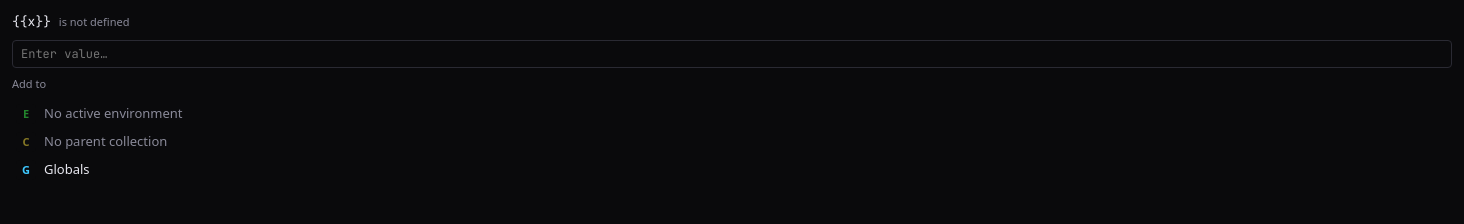
it: VariableCard › keeps the card open with the reason when adding fails
Click the button "G Globals" at (67, 169), box [12,156,1452,184]
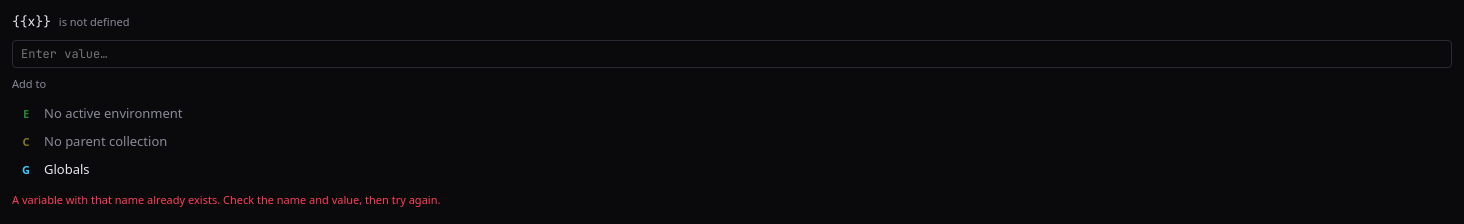
Expected: the message shows "A variable with that name already exists.", [12,192,440,207]
